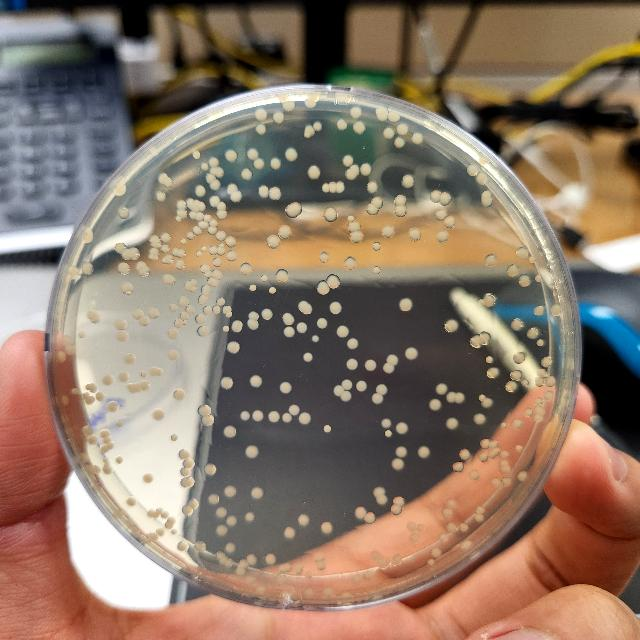colony: (286, 202, 302, 218), (324, 206, 338, 222), (445, 318, 459, 334), (278, 224, 292, 240), (80, 226, 94, 242), (326, 275, 340, 289), (352, 120, 366, 134), (298, 300, 312, 314), (408, 227, 422, 241), (227, 341, 241, 355), (267, 235, 281, 249), (284, 148, 298, 162), (173, 388, 187, 402), (348, 231, 364, 243), (316, 281, 329, 295), (220, 376, 233, 389), (344, 256, 356, 270), (400, 297, 412, 311), (308, 165, 320, 179), (470, 334, 482, 348), (428, 399, 442, 411), (484, 254, 498, 266), (506, 265, 520, 277), (381, 226, 395, 238), (439, 192, 451, 206), (376, 108, 388, 122), (250, 374, 262, 388), (197, 404, 211, 416), (224, 484, 236, 498), (240, 262, 252, 276), (270, 156, 282, 170), (269, 187, 281, 201), (252, 158, 266, 170), (122, 281, 134, 295), (118, 262, 130, 276), (68, 265, 80, 279), (446, 416, 458, 429), (511, 319, 524, 331), (376, 556, 389, 568), (516, 247, 528, 260), (402, 175, 414, 188), (247, 148, 260, 160), (117, 207, 129, 220), (102, 374, 115, 386), (351, 106, 362, 120), (114, 318, 128, 329), (116, 331, 130, 342), (181, 477, 195, 488), (406, 348, 418, 360), (337, 326, 349, 338), (360, 164, 372, 176), (411, 133, 423, 145), (329, 302, 341, 314), (283, 313, 295, 325), (276, 270, 288, 282), (436, 383, 448, 395), (299, 412, 311, 424), (505, 381, 517, 393), (418, 446, 430, 458), (396, 422, 408, 434), (392, 458, 404, 470), (390, 504, 402, 516), (364, 512, 376, 524), (321, 522, 333, 534), (298, 514, 310, 526), (284, 526, 296, 538), (519, 274, 531, 286), (527, 327, 539, 339), (435, 209, 447, 221), (444, 216, 456, 228), (437, 230, 449, 242), (366, 203, 378, 215), (396, 123, 408, 135), (246, 554, 258, 566), (251, 487, 263, 499), (246, 446, 258, 458), (288, 404, 300, 416), (280, 382, 292, 394), (268, 411, 280, 423), (252, 410, 264, 422), (224, 426, 236, 438), (204, 464, 216, 476), (272, 112, 284, 124), (255, 109, 267, 121), (241, 168, 253, 180), (231, 191, 243, 203), (194, 540, 206, 552), (153, 409, 165, 421), (178, 296, 190, 308), (148, 307, 160, 319), (124, 353, 136, 365), (108, 401, 120, 413), (114, 242, 126, 254), (225, 150, 237, 162), (82, 262, 94, 274), (115, 184, 127, 196), (177, 540, 189, 552), (65, 344, 77, 356), (367, 180, 378, 193), (348, 222, 362, 232), (480, 332, 490, 346), (487, 368, 501, 378), (356, 506, 366, 520), (201, 416, 215, 426), (259, 185, 269, 199), (304, 124, 314, 138), (282, 101, 296, 111), (90, 310, 100, 324), (387, 354, 398, 366), (383, 362, 395, 373), (347, 358, 358, 370), (459, 448, 471, 459), (516, 471, 528, 482), (540, 357, 552, 368), (395, 196, 407, 207), (394, 206, 406, 217), (226, 236, 237, 248), (196, 185, 207, 197), (104, 462, 115, 474), (430, 190, 440, 203), (357, 381, 368, 392), (341, 391, 352, 402), (467, 166, 478, 177), (216, 507, 227, 518), (366, 359, 376, 371), (348, 338, 358, 350), (343, 155, 353, 167), (394, 138, 406, 148), (384, 127, 394, 139), (262, 308, 272, 320), (481, 398, 493, 408), (474, 414, 486, 424), (484, 295, 494, 307), (514, 351, 524, 363), (510, 370, 522, 380), (396, 446, 406, 458), (373, 486, 385, 496), (322, 586, 334, 596), (264, 554, 276, 564), (544, 376, 556, 386), (551, 304, 561, 316), (476, 173, 486, 185), (372, 197, 382, 209), (388, 112, 400, 122), (208, 494, 220, 504), (226, 515, 238, 525), (216, 525, 228, 535), (232, 320, 242, 332), (198, 325, 208, 337), (228, 183, 238, 195), (216, 210, 228, 220), (182, 505, 194, 515), (142, 473, 154, 483), (178, 449, 190, 459), (168, 350, 180, 360), (164, 274, 176, 284), (138, 267, 150, 277), (161, 254, 173, 264), (158, 173, 168, 185), (210, 180, 222, 190), (209, 156, 219, 168), (126, 496, 138, 506), (88, 435, 100, 445), (294, 562, 304, 574), (131, 248, 141, 260), (350, 164, 360, 176), (317, 317, 327, 328), (284, 327, 294, 338), (455, 392, 465, 403), (372, 394, 383, 404), (371, 550, 382, 560), (210, 196, 220, 207), (236, 566, 247, 576), (84, 426, 95, 436), (248, 312, 260, 321), (305, 99, 317, 108), (180, 468, 192, 477), (183, 459, 195, 468), (337, 120, 347, 130), (297, 323, 307, 333), (248, 319, 258, 329), (303, 352, 313, 362), (446, 392, 456, 402), (376, 384, 386, 394), (342, 380, 352, 390), (334, 386, 344, 396), (381, 418, 391, 428), (394, 496, 404, 506), (454, 462, 464, 472), (469, 470, 479, 480), (478, 452, 488, 462), (512, 419, 522, 429), (523, 408, 533, 418), (446, 498, 456, 508), (442, 508, 452, 518), (446, 523, 456, 533), (439, 532, 449, 542), (407, 521, 417, 531), (392, 554, 402, 564), (314, 552, 324, 562), (364, 570, 374, 580), (351, 574, 361, 584), (534, 305, 544, 315), (534, 377, 544, 387), (544, 391, 554, 401), (482, 198, 492, 208), (535, 406, 545, 416), (478, 156, 488, 166), (226, 542, 236, 552), (245, 512, 255, 522), (282, 413, 292, 423), (240, 411, 250, 421), (195, 314, 205, 324), (256, 124, 266, 134), (227, 251, 237, 261), (200, 264, 210, 274), (212, 270, 222, 280), (201, 285, 211, 295), (188, 498, 198, 508), (168, 329, 178, 339), (216, 231, 226, 241), (177, 200, 187, 210), (134, 309, 144, 319), (140, 316, 150, 326), (140, 380, 150, 390), (96, 391, 106, 401), (120, 372, 130, 382), (161, 233, 171, 243), (148, 252, 158, 262), (156, 192, 166, 202), (206, 173, 216, 183), (238, 559, 248, 569), (101, 428, 111, 438), (100, 444, 110, 454), (63, 335, 73, 345), (80, 452, 90, 462), (146, 508, 156, 518), (246, 576, 256, 586), (278, 575, 288, 585), (126, 518, 136, 528), (346, 170, 356, 180), (501, 478, 512, 487), (336, 181, 344, 193), (460, 540, 472, 548), (314, 120, 322, 132), (207, 278, 219, 286), (186, 198, 194, 210), (216, 166, 224, 178), (308, 94, 320, 102), (58, 351, 66, 363), (62, 394, 70, 406), (122, 248, 130, 260), (490, 478, 500, 487), (479, 439, 488, 449), (459, 522, 468, 532), (537, 369, 547, 378), (192, 227, 202, 236), (377, 496, 388, 504), (431, 548, 442, 556), (193, 200, 200, 212), (320, 252, 328, 262), (488, 440, 498, 448), (490, 447, 500, 455), (475, 506, 485, 514), (474, 514, 484, 522), (409, 534, 419, 542), (316, 562, 326, 570), (304, 588, 314, 596), (534, 396, 542, 406), (222, 306, 232, 314), (203, 306, 213, 314), (217, 202, 227, 210), (212, 258, 222, 266), (198, 296, 208, 304), (185, 306, 195, 314), (198, 221, 208, 229), (177, 210, 187, 218), (196, 212, 204, 222), (176, 259, 184, 269), (136, 262, 146, 270), (160, 245, 170, 253), (150, 248, 160, 256), (198, 202, 206, 212), (164, 178, 172, 188), (217, 550, 225, 560), (220, 555, 230, 563), (160, 511, 170, 519), (148, 532, 158, 540), (90, 383, 98, 393), (85, 396, 95, 404), (93, 464, 101, 474), (87, 464, 95, 474), (134, 382, 142, 392), (128, 383, 136, 393), (284, 562, 292, 572), (174, 319, 183, 327), (180, 312, 188, 321), (217, 247, 225, 256), (224, 558, 233, 566), (157, 528, 166, 536), (150, 243, 162, 249), (114, 509, 122, 518), (329, 182, 336, 192), (150, 235, 160, 242), (372, 242, 380, 250), (372, 266, 380, 274), (322, 184, 330, 192), (486, 356, 494, 364), (478, 394, 486, 402), (324, 424, 332, 432), (384, 430, 392, 438), (488, 451, 496, 459), (500, 450, 508, 458), (534, 274, 542, 282), (482, 191, 490, 199), (534, 414, 542, 422), (260, 274, 268, 282), (217, 298, 225, 306), (213, 306, 221, 314), (204, 270, 212, 278), (170, 434, 178, 442), (170, 304, 178, 312), (209, 246, 217, 254), (208, 227, 216, 235), (210, 219, 218, 227), (204, 214, 212, 222), (187, 231, 195, 239), (189, 212, 197, 220), (184, 282, 192, 290), (190, 278, 198, 286), (178, 249, 186, 257), (193, 151, 201, 159), (201, 163, 209, 171), (115, 456, 123, 464), (168, 516, 176, 524), (166, 521, 174, 529), (103, 436, 111, 444), (106, 441, 114, 449), (82, 392, 90, 400), (498, 460, 508, 466), (500, 466, 510, 472), (341, 592, 351, 598), (150, 366, 156, 376), (257, 586, 267, 592), (521, 379, 529, 386), (536, 339, 544, 346), (157, 368, 163, 377), (312, 336, 320, 342), (479, 299, 485, 307), (501, 422, 507, 430), (516, 444, 522, 452), (427, 559, 435, 565), (416, 524, 424, 530), (305, 572, 313, 578), (529, 256, 535, 264), (250, 284, 256, 292), (141, 370, 147, 378), (172, 248, 178, 256), (210, 168, 216, 176), (156, 508, 164, 514), (72, 388, 80, 394), (65, 274, 71, 282), (152, 512, 160, 518), (280, 564, 286, 572), (348, 215, 354, 222), (225, 312, 232, 318), (181, 238, 187, 245), (78, 332, 85, 338), (278, 98, 288, 102), (270, 288, 276, 294), (272, 572, 278, 578), (223, 326, 229, 332), (201, 246, 207, 252), (196, 251, 202, 257), (175, 216, 181, 222), (171, 528, 177, 534), (117, 421, 123, 427), (103, 457, 109, 463), (88, 310, 92, 318), (259, 569, 265, 573), (182, 320, 188, 324), (192, 286, 196, 292), (86, 384, 90, 390), (220, 243, 224, 247), (338, 601, 342, 605)
